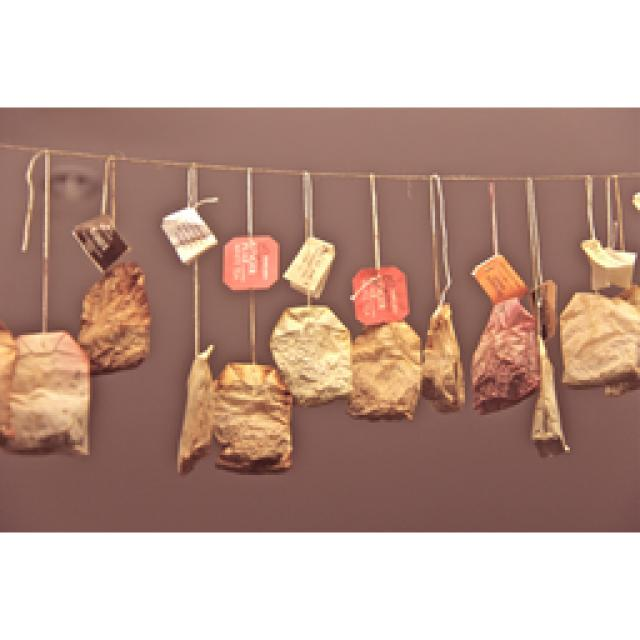tea-bags: (178, 268, 462, 468), (0, 262, 148, 452), (470, 255, 568, 448), (560, 292, 638, 388), (282, 238, 332, 298)
